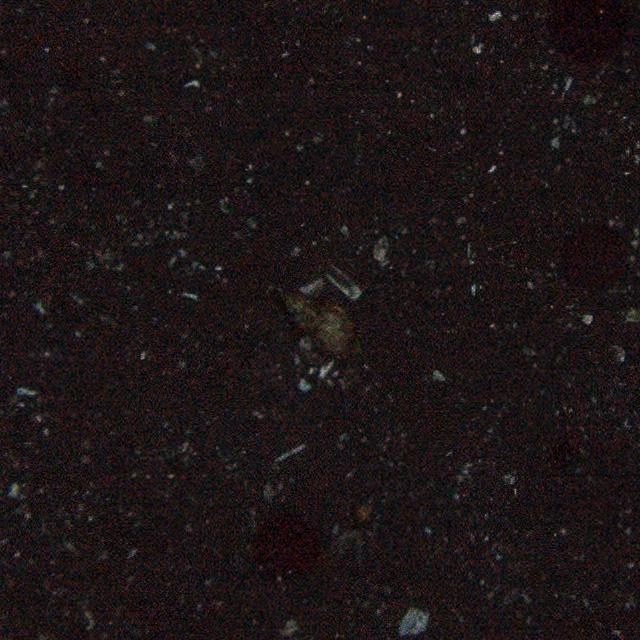whelk: (272, 282, 360, 369)
